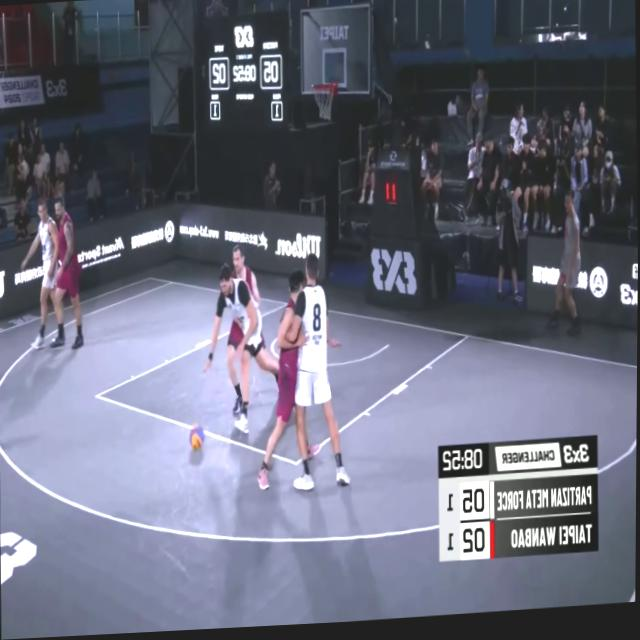ball: (188, 424, 206, 453)
hoop: (310, 81, 338, 127)
player: (248, 270, 346, 500), (283, 252, 353, 497), (198, 260, 286, 439), (223, 239, 280, 423), (20, 197, 65, 349), (47, 194, 86, 353)
